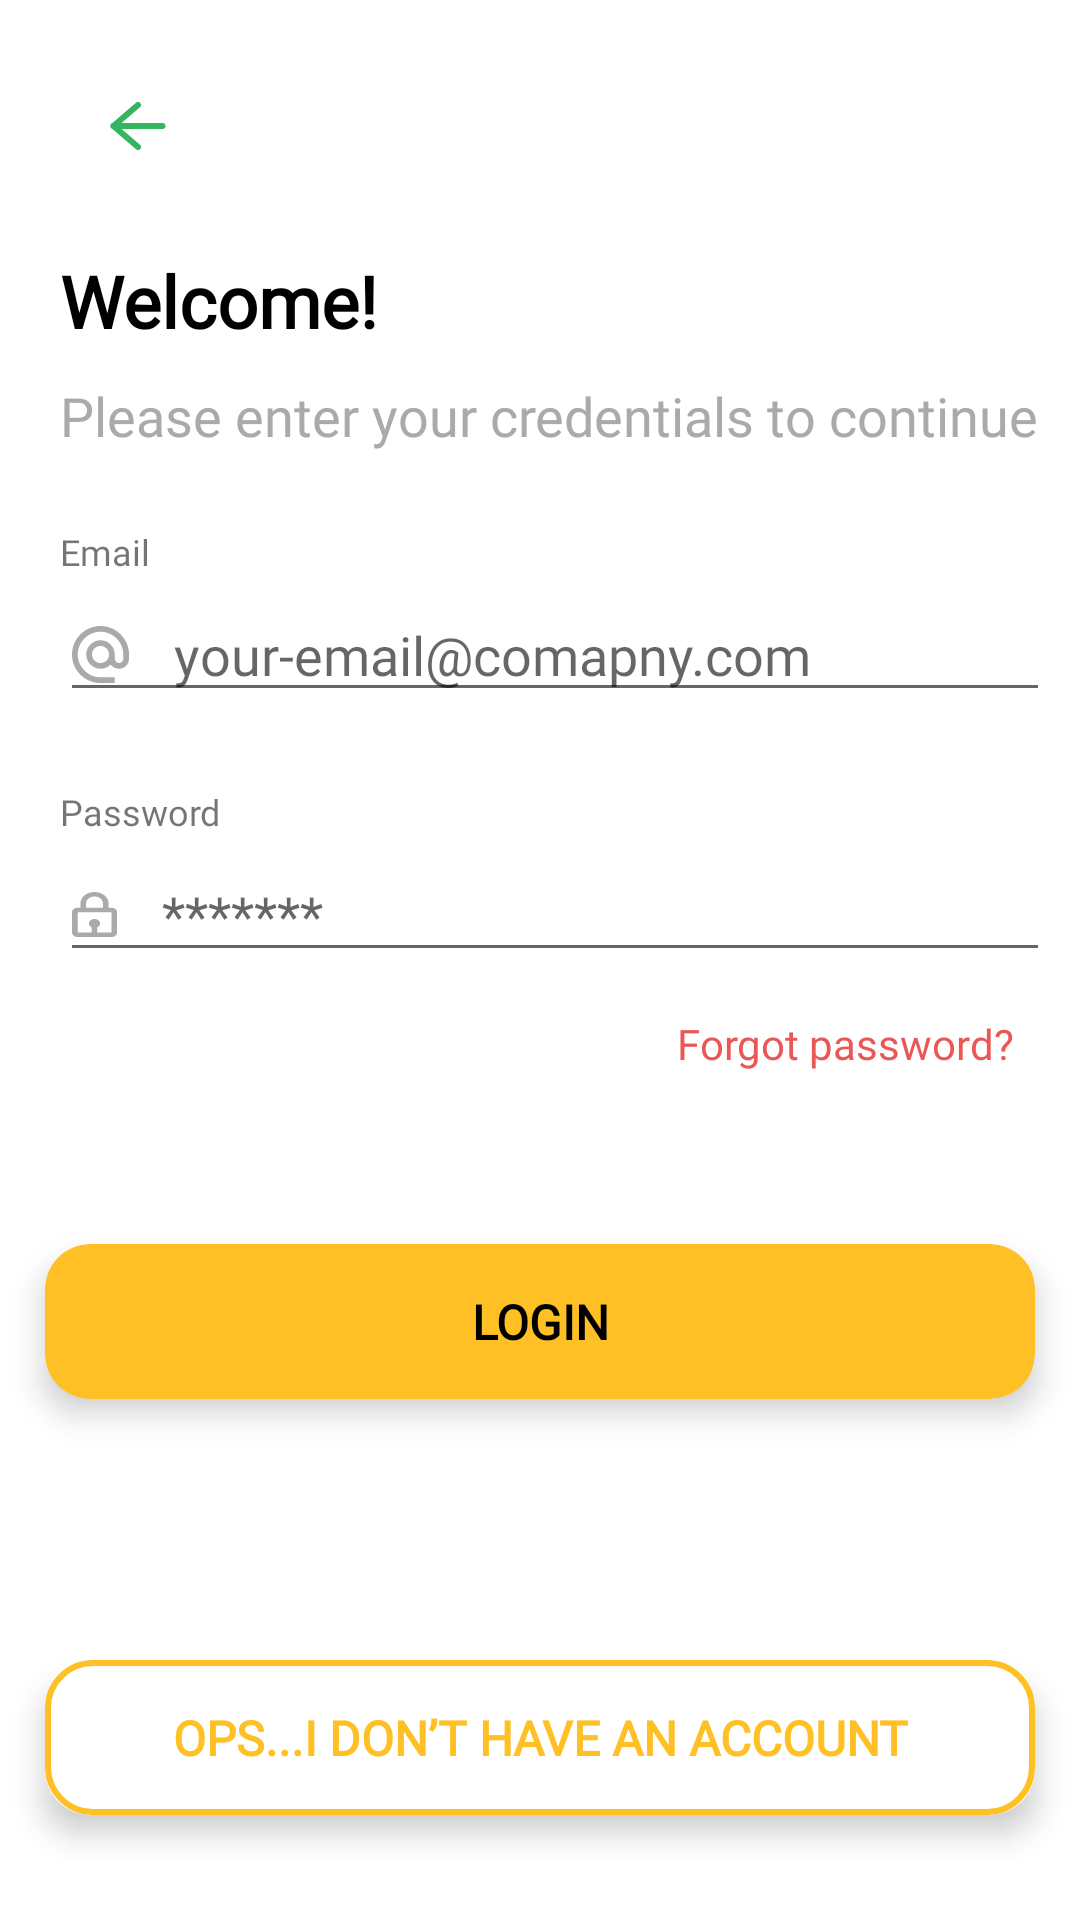

Icons on this 1080 × 1920 Android screen, each with its box as (x1, y1, x2, y2):
arrow left: (110, 102, 166, 150)
